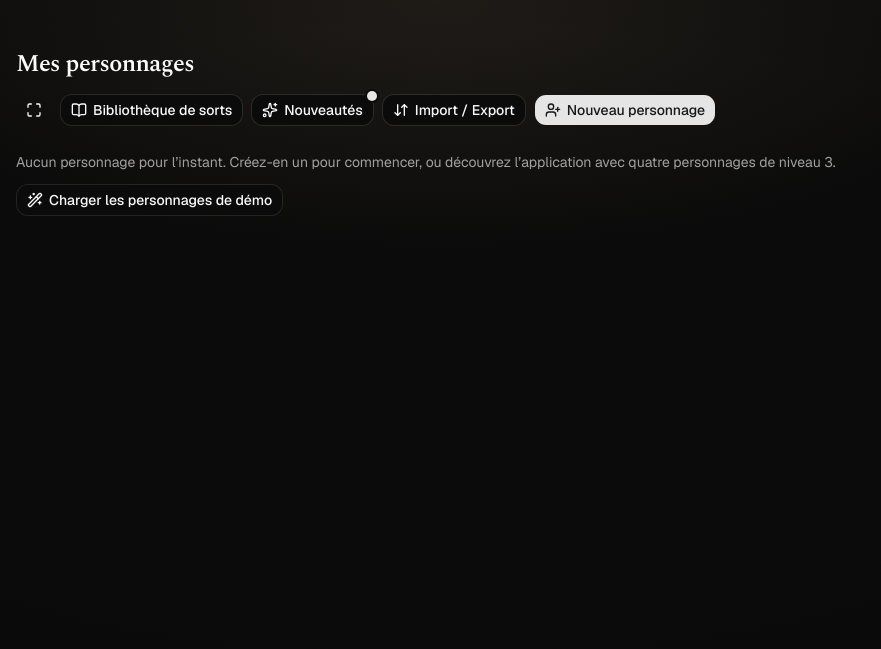
CharacterList › loads the demo characters from the empty state
Step 1. Click the button "Charger les personnages de démo" → (150, 200), box [16,184,283,216]
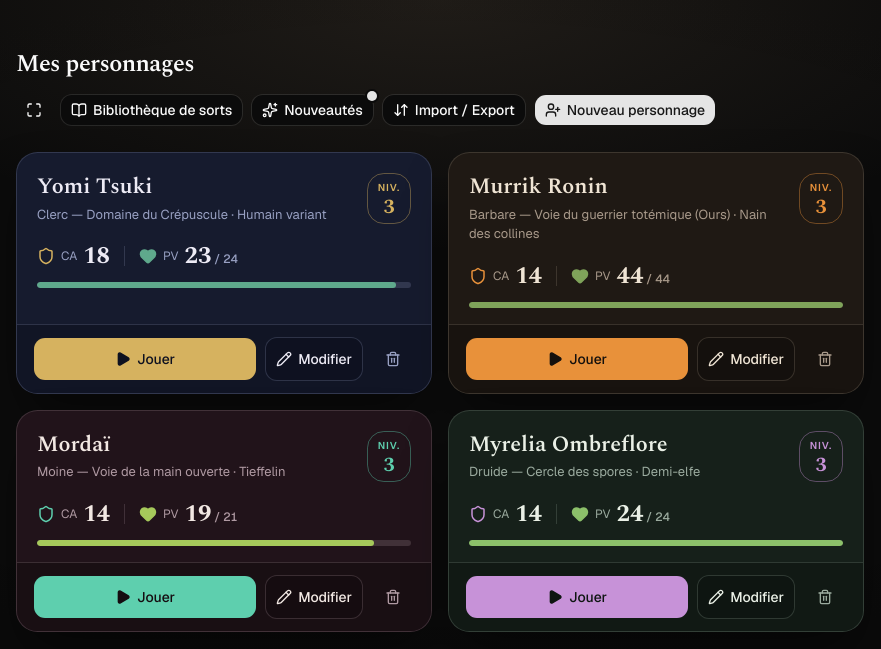
Now the heading "Yomi Tsuki" is shown, box [37,170,152,203]
